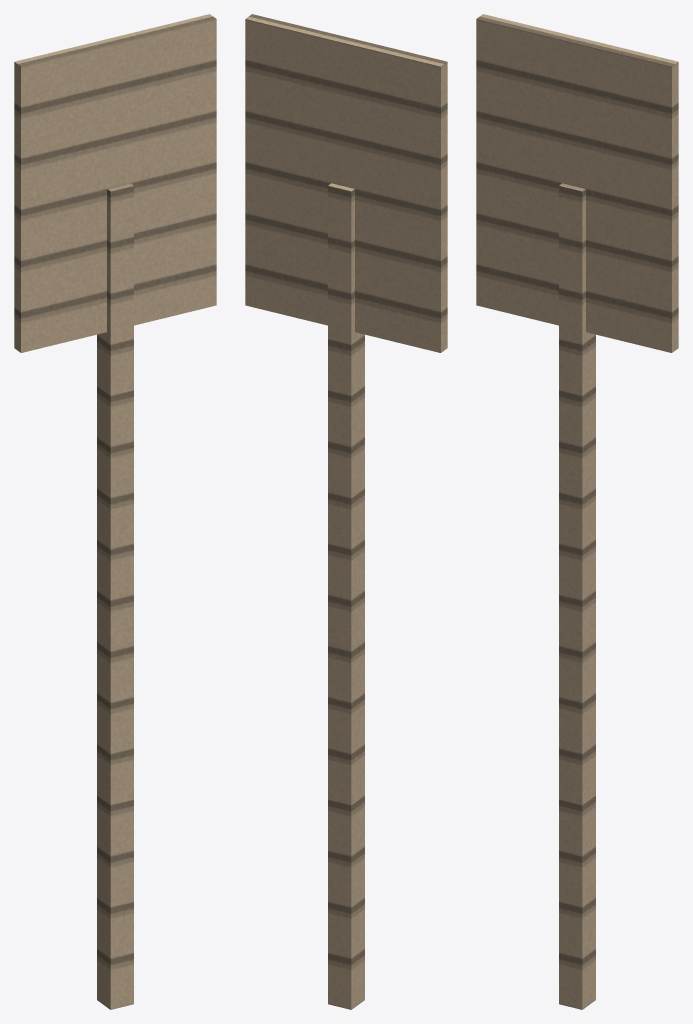
The model's file is rural_route_speed_limit_sign.glb.
3 views of the same model, side by side, from view 1: azimuth 30°, elevation 25°; view 2: azimuth 150°, elevation 25°; view 3: azimuth 330°, elevation 25° (orthographic).
Parts seen in each view (by area): view 1: rural_route_speed_limit_sign-col; view 2: rural_route_speed_limit_sign-col; view 3: rural_route_speed_limit_sign-col.
Boxes of the visible parts, left/top/right/bottom form: rural_route_speed_limit_sign-col: left=14, top=14, right=216, bottom=1009; rural_route_speed_limit_sign-col: left=245, top=14, right=447, bottom=1009; rural_route_speed_limit_sign-col: left=476, top=14, right=678, bottom=1009.
Bounding box in the file's own units: 0.5 × 2.35 × 0.06.
Materials: 1 (1 with a texture image).
